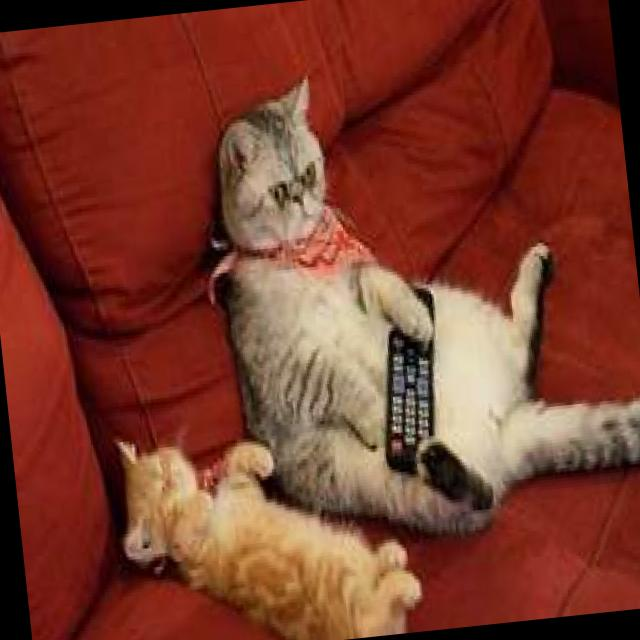cat: (188, 40, 640, 558), (111, 405, 427, 640)
